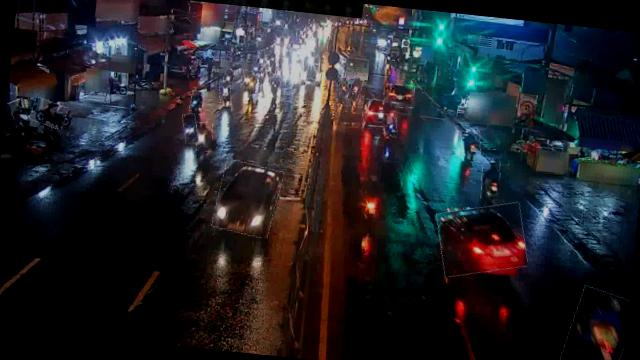Bike: (558, 286, 629, 360), (30, 98, 69, 129), (479, 162, 502, 202), (459, 130, 482, 163), (194, 122, 213, 153), (182, 112, 200, 144), (382, 112, 398, 138), (348, 75, 364, 101), (218, 81, 233, 106), (190, 91, 205, 113), (245, 74, 258, 99), (269, 76, 282, 98), (240, 70, 252, 89), (338, 77, 350, 96), (224, 69, 235, 83)
Car: (433, 198, 530, 280), (213, 159, 282, 238), (361, 99, 397, 129), (383, 83, 415, 109)
